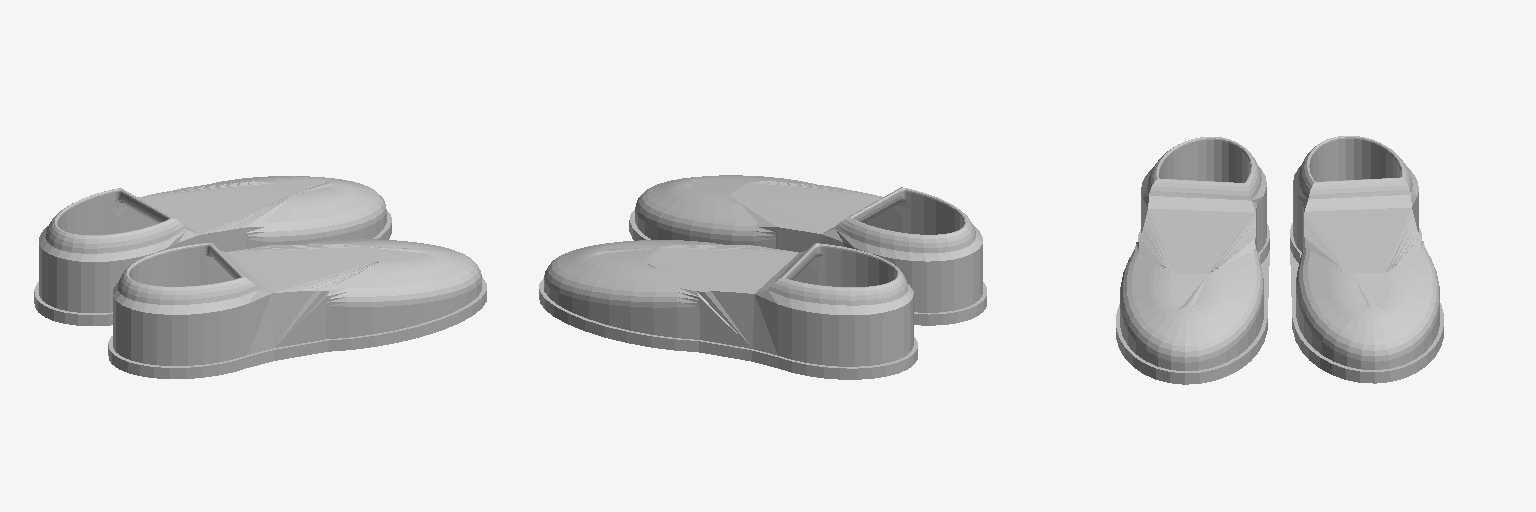
The model's file is shoes.obj.
3 views of the same model, side by side, from view 1: azimuth 30°, elevation 25°; view 2: azimuth 150°, elevation 25°; view 3: azimuth 270°, elevation 25° (orthographic).
Parts seen in each view (by area): view 1: Circle; view 2: Circle; view 3: Circle.
Part boxes in pixels (left/top/right/bottom): Circle: left=34, top=176, right=486, bottom=378; Circle: left=539, top=175, right=986, bottom=379; Circle: left=1116, top=136, right=1443, bottom=384.
Bounding box in the file's own units: 6.24 × 1.38 × 4.95.